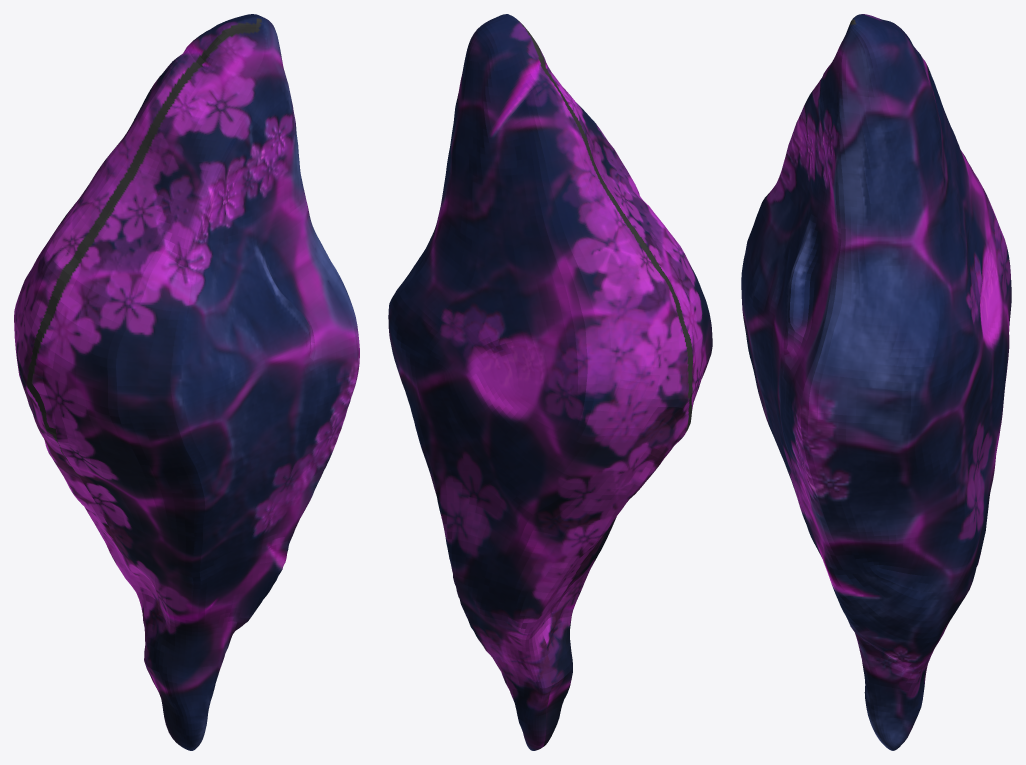
File: crystalFinal.fbx
3 views of the same model, side by side, from view 1: azimuth 30°, elevation 25°; view 2: azimuth 150°, elevation 25°; view 3: azimuth 270°, elevation 25° (orthographic). The views are drawn at different scales.
Parts seen in each view (by area): view 1: lowPolycrystal:ZBrush_defualt_group; view 2: lowPolycrystal:ZBrush_defualt_group; view 3: lowPolycrystal:ZBrush_defualt_group.
Part boxes in pixels (x1,y1,x2,y2): lowPolycrystal:ZBrush_defualt_group: (14, 14, 359, 750); lowPolycrystal:ZBrush_defualt_group: (388, 14, 712, 750); lowPolycrystal:ZBrush_defualt_group: (741, 14, 1011, 750).
Size of the model in its own units: 1.78 by 4.16 by 1.35.
1 material, 1 textured.
